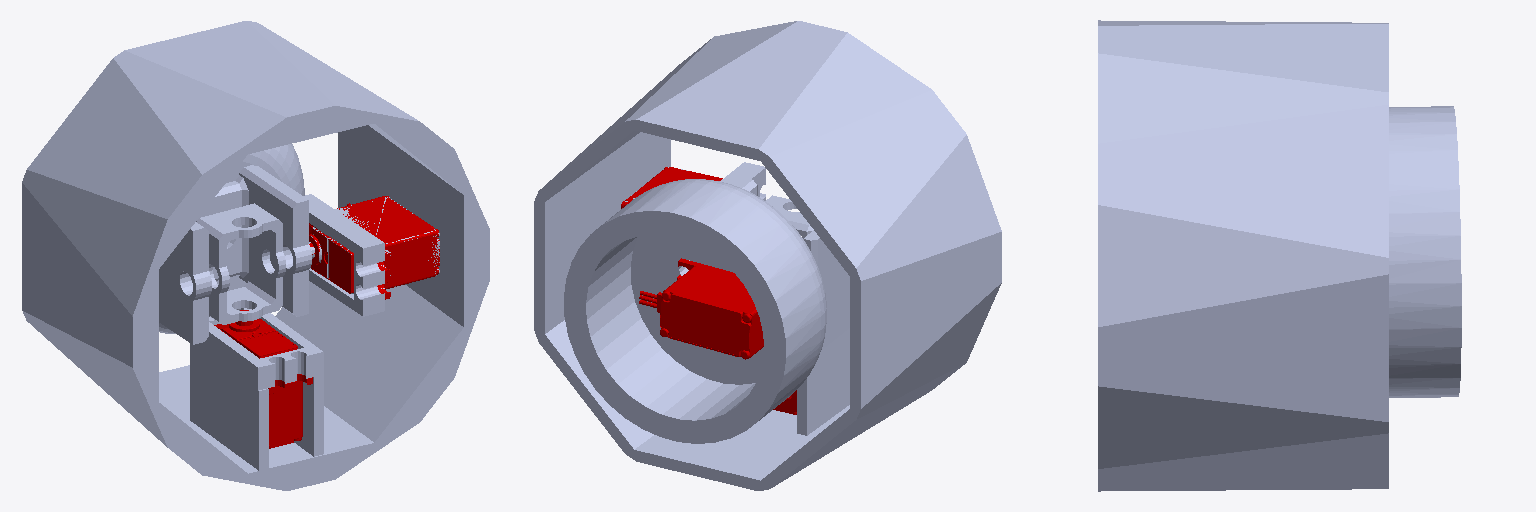
URDF robot description (NeckAssembly_files):
<?xml version="1.0" encoding="utf-8"?>
<!-- This URDF was automatically created by SolidWorks to URDF Exporter! Originally created by Stephen Brawner (brawner@gmail.com) 
     Commit Version: 1.6.0-4-g7f85cfe  Build Version: 1.6.7995.38578
     For more information, please see http://wiki.ros.org/sw_urdf_exporter -->
<robot
  name="NeckAssembly_files">
  <link
    name="neckcover_link">
    <inertial>
      <origin
        xyz="-0.000558029400309135 -0.0132805133453129 -0.0808536864183735"
        rpy="0 0 0" />
      <mass
        value="0.387247978246228" />
      <inertia
        ixx="0.0013908119540614"
        ixy="-2.63354598095922E-06"
        ixz="-7.74120926286103E-06"
        iyy="0.0021404377841576"
        iyz="-1.49807770509356E-05"
        izz="0.00134886877383479" />
    </inertial>
    <visual>
      <origin
        xyz="0 0 0"
        rpy="0 0 0" />
      <geometry>
        <mesh
          filename="package://NeckAssembly_files/meshes/neckcover_link.STL" />
      </geometry>
      <material
        name="">
        <color
          rgba="0.792156862745098 0.819607843137255 0.933333333333333 1" />
      </material>
    </visual>
    <collision>
      <origin
        xyz="0 0 0"
        rpy="0 0 0" />
      <geometry>
        <mesh
          filename="package://NeckAssembly_files/meshes/neckcover_link.STL" />
      </geometry>
    </collision>
  </link>
  <link
    name="servo1_Link">
    <inertial>
      <origin
        xyz="0.00107785746202449 -0.0202337522164758 -0.000369936540011384"
        rpy="0 0 0" />
      <mass
        value="0.0887120121025638" />
      <inertia
        ixx="1.49387862720465E-05"
        ixy="4.83052983164599E-08"
        ixz="-4.82472974672763E-07"
        iyy="1.52980238589682E-05"
        iyz="-1.73614642877977E-08"
        izz="2.43935449578733E-05" />
    </inertial>
    <visual>
      <origin
        xyz="0 0 0"
        rpy="0 0 0" />
      <geometry>
        <mesh
          filename="package://NeckAssembly_files/meshes/servo1_Link.STL" />
      </geometry>
      <material
        name="">
        <color
          rgba="0.843137254901961 0 0 1" />
      </material>
    </visual>
    <collision>
      <origin
        xyz="0 0 0"
        rpy="0 0 0" />
      <geometry>
        <mesh
          filename="package://NeckAssembly_files/meshes/servo1_Link.STL" />
      </geometry>
    </collision>
  </link>
  <joint
    name="servo1_joint"
    type="continuous">
    <origin
      xyz="-0.0120783707860205 0.0577309103883369 -0.0777949432374814"
      rpy="0 0 0" />
    <parent
      link="neckcover_link" />
    <child
      link="servo1_Link" />
    <axis
      xyz="0.0397697640940149 -0.999208869988606 0" />
  </joint>
  <link
    name="servo2_Link">
    <inertial>
      <origin
        xyz="0.000383308582433739 0.000253145019879719 0.0202606152149591"
        rpy="0 0 0" />
      <mass
        value="0.0887119391383713" />
      <inertia
        ixx="2.44181232819431E-05"
        ixy="-1.88991552823228E-11"
        ixz="-1.34172276944908E-09"
        iyy="1.49185851114147E-05"
        iyz="-6.24362817847641E-08"
        izz="1.52935940924499E-05" />
    </inertial>
    <visual>
      <origin
        xyz="0 0 0"
        rpy="0 0 0" />
      <geometry>
        <mesh
          filename="package://NeckAssembly_files/meshes/servo2_Link.STL" />
      </geometry>
      <material
        name="">
        <color
          rgba="0.843137254901961 0 0 1" />
      </material>
    </visual>
    <collision>
      <origin
        xyz="0 0 0"
        rpy="0 0 0" />
      <geometry>
        <mesh
          filename="package://NeckAssembly_files/meshes/servo2_Link.STL" />
      </geometry>
    </collision>
  </link>
  <joint
    name="servo2_joint"
    type="fixed">
    <origin
      xyz="-0.00937901763228322 -0.0293076079355733 -0.143545072663795"
      rpy="0 0 0" />
    <parent
      link="neckcover_link" />
    <child
      link="servo2_Link" />
    <axis
      xyz="0 0 0" />
  </joint>
  <link
    name="servo3_Link">
    <inertial>
      <origin
        xyz="-0.0202546506906401 -0.000552825241477706 0.000383314702415927"
        rpy="0 0 0" />
      <mass
        value="0.0887120062426798" />
      <inertia
        ixx="1.52880587637806E-05"
        ixy="7.7145336412361E-08"
        ixz="1.33887279409565E-09"
        iyy="1.49241489394055E-05"
        iyz="4.28543792093103E-11"
        izz="2.4418141786291E-05" />
    </inertial>
    <visual>
      <origin
        xyz="0 0 0"
        rpy="0 0 0" />
      <geometry>
        <mesh
          filename="package://NeckAssembly_files/meshes/servo3_Link.STL" />
      </geometry>
      <material
        name="">
        <color
          rgba="0.843137254901961 0 0 1" />
      </material>
    </visual>
    <collision>
      <origin
        xyz="0 0 0"
        rpy="0 0 0" />
      <geometry>
        <mesh
          filename="package://NeckAssembly_files/meshes/servo3_Link.STL" />
      </geometry>
    </collision>
  </link>
  <joint
    name="servo3_joint"
    type="continuous">
    <origin
      xyz="0.0644349742299666 -0.026392724662669 -0.0780791409299753"
      rpy="0 0 0" />
    <parent
      link="neckcover_link" />
    <child
      link="servo3_Link" />
    <axis
      xyz="-0.999208869988605 -0.0397697640940424 0" />
  </joint>
  <link
    name="BigHolder_Link">
    <inertial>
      <origin
        xyz="0.00144973073565779 -0.0280578595382105 1.6952181454144E-05"
        rpy="0 0 0" />
      <mass
        value="0.170055648143212" />
      <inertia
        ixx="0.000179504204825404"
        ixy="-2.8122283212968E-06"
        ixz="7.73945281530524E-08"
        iyy="0.000283721275988835"
        iyz="7.13098915279854E-08"
        izz="0.000177876239157666" />
    </inertial>
    <visual>
      <origin
        xyz="0 0 0"
        rpy="0 0 0" />
      <geometry>
        <mesh
          filename="package://NeckAssembly_files/meshes/BigHolder_Link.STL" />
      </geometry>
      <material
        name="">
        <color
          rgba="0.792156862745098 0.819607843137255 0.933333333333333 1" />
      </material>
    </visual>
    <collision>
      <origin
        xyz="0 0 0"
        rpy="0 0 0" />
      <geometry>
        <mesh
          filename="package://NeckAssembly_files/meshes/BigHolder_Link.STL" />
      </geometry>
    </collision>
  </link>
  <joint
    name="BigHolder_joint"
    type="continuous">
    <origin
      xyz="-0.00287891807280283 0.065653037885353 -0.0776950726637979"
      rpy="0 0 0" />
    <parent
      link="neckcover_link" />
    <child
      link="BigHolder_Link" />
    <axis
      xyz="-0.0397697640940247 0.999208869988605 0" />
  </joint>
  <link
    name="YesHolder2_Link">
    <inertial>
      <origin
        xyz="0.0203149269410792 0.0271362965390097 -0.0199908939888824"
        rpy="0 0 0" />
      <mass
        value="0.309242325129277" />
      <inertia
        ixx="0.000212266825814768"
        ixy="-3.05286103788847E-06"
        ixz="7.87334009471363E-08"
        iyy="0.000326187452054264"
        iyz="7.13527459071949E-08"
        izz="0.000228228400059726" />
    </inertial>
    <visual>
      <origin
        xyz="0 0 0"
        rpy="0 0 0" />
      <geometry>
        <mesh
          filename="package://NeckAssembly_files/meshes/YesHolder2_Link.STL" />
      </geometry>
      <material
        name="">
        <color
          rgba="0.792156862745098 0.819607843137255 0.933333333333333 1" />
      </material>
    </visual>
    <collision>
      <origin
        xyz="0 0 0"
        rpy="0 0 0" />
      <geometry>
        <mesh
          filename="package://NeckAssembly_files/meshes/YesHolder2_Link.STL" />
      </geometry>
    </collision>
  </link>
  <joint
    name="YesHolder2_joint"
    type="continuous">
    <origin
      xyz="-0.00916572729193776 -0.015266840259032 -0.057695072663795"
      rpy="0 0 0" />
    <parent
      link="neckcover_link" />
    <child
      link="YesHolder2_Link" />
    <axis
      xyz="0 0 1" />
  </joint>
  <link
    name="YesHolder3_Link">
    <inertial>
      <origin
        xyz="0.0060311959914825 0.0445244936257119 -0.01998650833378"
        rpy="0 0 0" />
      <mass
        value="0.21367369731836" />
      <inertia
        ixx="0.000193898212766541"
        ixy="-3.21440946218697E-06"
        ixz="7.73945281530423E-08"
        iyy="0.000310300003370088"
        iyz="7.13098915279866E-08"
        izz="0.000201572008010471" />
    </inertial>
    <visual>
      <origin
        xyz="0 0 0"
        rpy="0 0 0" />
      <geometry>
        <mesh
          filename="package://NeckAssembly_files/meshes/YesHolder3_Link.STL" />
      </geometry>
      <material
        name="">
        <color
          rgba="0.792156862745098 0.819607843137255 0.933333333333333 1" />
      </material>
    </visual>
    <collision>
      <origin
        xyz="0 0 0"
        rpy="0 0 0" />
      <geometry>
        <mesh
          filename="package://NeckAssembly_files/meshes/YesHolder3_Link.STL" />
      </geometry>
    </collision>
  </link>
  <joint
    name="YesHolder3_joint"
    type="continuous">
    <origin
      xyz="-0.00916572729193776 -0.015266840259032 -0.057695072663795"
      rpy="0 0 0" />
    <parent
      link="neckcover_link" />
    <child
      link="YesHolder3_Link" />
    <axis
      xyz="0.999208869988605 0.0397697640940216 0" />
  </joint>
  <link
    name="MotorHolder2_Link">
    <inertial>
      <origin
        xyz="0.015 1.11022302462516E-16 0"
        rpy="0 0 0" />
      <mass
        value="0.00685662156823649" />
      <inertia
        ixx="2.2382502629635E-06"
        ixy="2.71065228808385E-22"
        ixz="-9.9350826820485E-23"
        iyy="9.59940396195211E-07"
        iyz="-4.14976191770741E-22"
        izz="3.08391363302144E-06" />
    </inertial>
    <visual>
      <origin
        xyz="0 0 0"
        rpy="0 0 0" />
      <geometry>
        <mesh
          filename="package://NeckAssembly_files/meshes/MotorHolder2_Link.STL" />
      </geometry>
      <material
        name="">
        <color
          rgba="0.792156862745098 0.819607843137255 0.933333333333333 1" />
      </material>
    </visual>
    <collision>
      <origin
        xyz="0 0 0"
        rpy="0 0 0" />
      <geometry>
        <mesh
          filename="package://NeckAssembly_files/meshes/MotorHolder2_Link.STL" />
      </geometry>
    </collision>
  </link>
  <joint
    name="MotorHolder2_joint"
    type="fixed">
    <origin
      xyz="-0.0239949493661168 -0.0293076079355734 -0.107995072663795"
      rpy="0 0 0" />
    <parent
      link="neckcover_link" />
    <child
      link="MotorHolder2_Link" />
    <axis
      xyz="0 0 0" />
  </joint>
  <link
    name="MotorHolder3_Link">
    <inertial>
      <origin
        xyz="1.11022302462516E-16 0 -0.0150000000000001"
        rpy="0 0 0" />
      <mass
        value="0.00685662156823661" />
      <inertia
        ixx="3.08055428444597E-06"
        ixy="8.44030878861362E-08"
        ixz="-1.62759517459188E-21"
        iyy="9.63299744770746E-07"
        iyz="-9.78843854747166E-22"
        izz="2.23825026296354E-06" />
    </inertial>
    <visual>
      <origin
        xyz="0 0 0"
        rpy="0 0 0" />
      <geometry>
        <mesh
          filename="package://NeckAssembly_files/meshes/MotorHolder3_Link.STL" />
      </geometry>
      <material
        name="">
        <color
          rgba="0.792156862745098 0.819607843137255 0.933333333333333 1" />
      </material>
    </visual>
    <collision>
      <origin
        xyz="0 0 0"
        rpy="0 0 0" />
      <geometry>
        <mesh
          filename="package://NeckAssembly_files/meshes/MotorHolder3_Link.STL" />
      </geometry>
    </collision>
  </link>
  <joint
    name="MotorHolder3_joint"
    type="continuous">
    <origin
      xyz="0.0289130989018725 -0.0278065397762313 -0.0626950726637943"
      rpy="0 0 0" />
    <parent
      link="neckcover_link" />
    <child
      link="MotorHolder3_Link" />
    <axis
      xyz="0 0 1" />
  </joint>
</robot>

--- Facts derived from the render (not from the file) ---
The picture shows the robot from 3 angles, left to right: view 1: azimuth 30°, elevation 25°; view 2: azimuth 150°, elevation 25°; view 3: azimuth 270°, elevation 25°; orthographic projection.
Model NeckAssembly_files with 9 links and 8 joints (6 continuous, 2 fixed), rooted at neckcover_link, posed every joint at zero.
Links seen in each view (by area): view 1: neckcover_link, YesHolder2_Link, servo3_Link, servo2_Link, BigHolder_Link, MotorHolder3_Link; view 2: neckcover_link, BigHolder_Link, YesHolder2_Link, servo1_Link, servo3_Link; view 3: neckcover_link, BigHolder_Link, YesHolder2_Link.
Boxes of the visible links, x1=… form: neckcover_link: x1=22, y1=21, x2=489, y2=490; YesHolder2_Link: x1=159, y1=144, x2=439, y2=344; servo3_Link: x1=309, y1=196, x2=439, y2=299; servo2_Link: x1=214, y1=310, x2=312, y2=448; BigHolder_Link: x1=159, y1=144, x2=304, y2=333; MotorHolder3_Link: x1=309, y1=215, x2=380, y2=299; neckcover_link: x1=534, y1=21, x2=1001, y2=490; BigHolder_Link: x1=564, y1=179, x2=826, y2=443; YesHolder2_Link: x1=564, y1=162, x2=849, y2=441; servo1_Link: x1=639, y1=258, x2=763, y2=359; servo3_Link: x1=621, y1=167, x2=722, y2=208; neckcover_link: x1=1098, y1=20, x2=1388, y2=491; BigHolder_Link: x1=1389, y1=106, x2=1461, y2=396; YesHolder2_Link: x1=1389, y1=107, x2=1461, y2=397.
Bounding box of the posed robot: 0.164 × 0.1248 × 0.164 m (x, y, z).
9 mesh visuals loaded from 9 distinct referenced files (9 binary STL).
